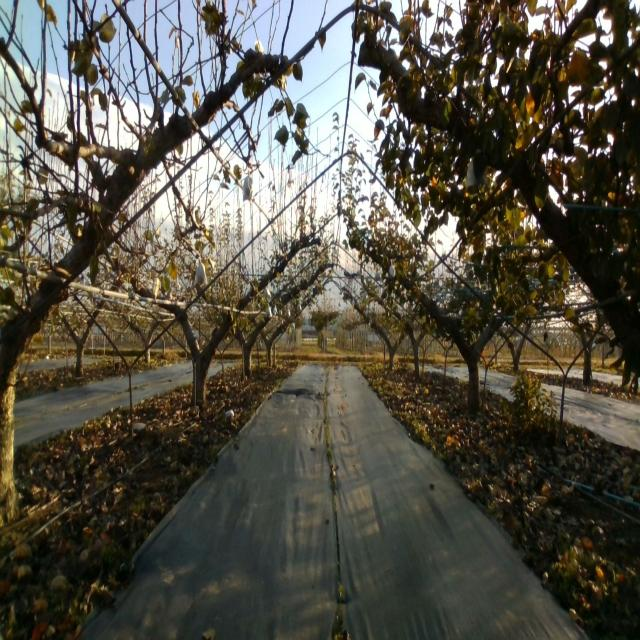pearbags: (193, 255, 208, 286), (242, 169, 254, 202)
